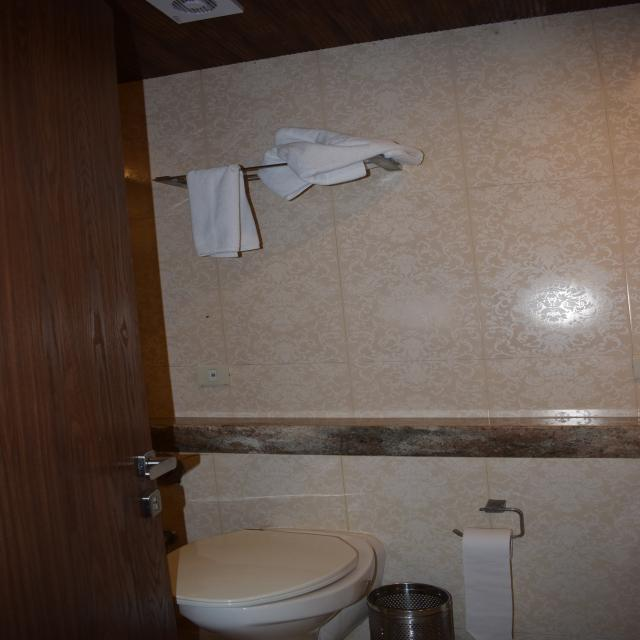mess: (139, 127, 443, 285)
